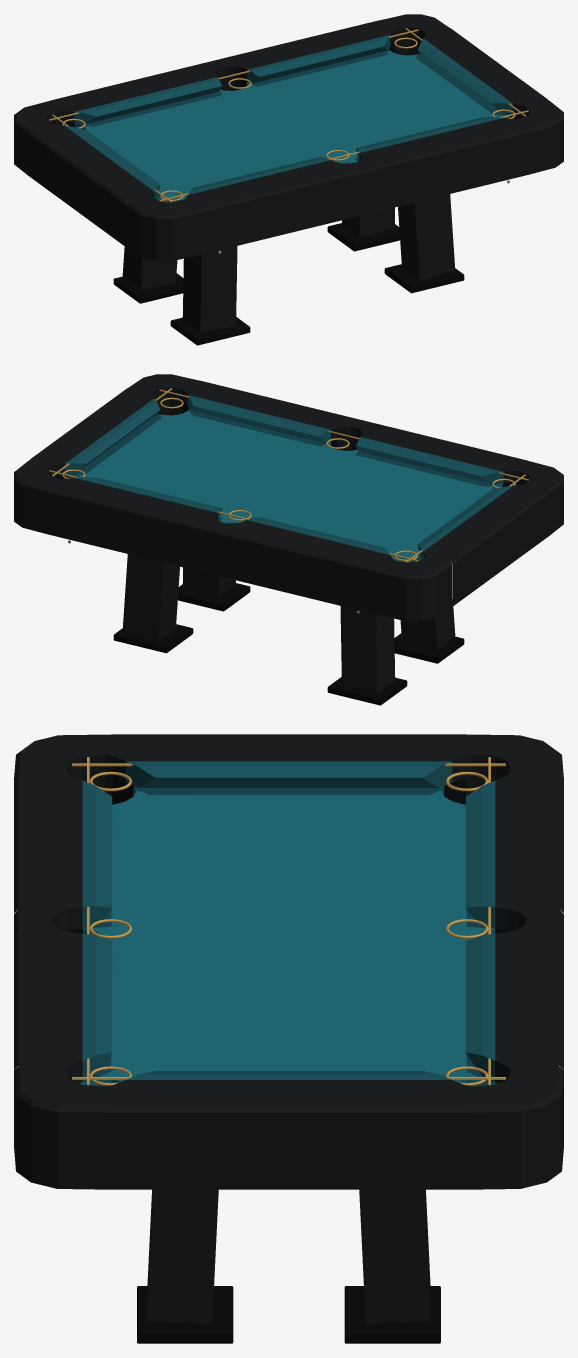
The model's file is table-eightball-5-chinese-ebony.glb.
3 renders of one model, top to bottom at view 1: azimuth 30°, elevation 25°; view 2: azimuth 150°, elevation 25°; view 3: azimuth 270°, elevation 25°, orthographic. The views are drawn at different scales.
Visible parts, largest first — view 1: table-eightball-5-chinese-ebony, break-builder-table-support, chinese-steel-cushion-details; view 2: table-eightball-5-chinese-ebony, break-builder-table-support, chinese-steel-cushion-details; view 3: table-eightball-5-chinese-ebony, break-builder-table-support, chinese-steel-cushion-details.
Part boxes in pixels (box(x1,y1,x2,y2)): table-eightball-5-chinese-ebony: box(14, 14, 563, 261); break-builder-table-support: box(113, 194, 464, 345); chinese-steel-cushion-details: box(49, 28, 528, 202); table-eightball-5-chinese-ebony: box(14, 374, 563, 621); break-builder-table-support: box(113, 554, 464, 705); chinese-steel-cushion-details: box(49, 388, 528, 562); table-eightball-5-chinese-ebony: box(14, 734, 563, 1189); break-builder-table-support: box(137, 1189, 440, 1343); chinese-steel-cushion-details: box(72, 757, 505, 1085).
Size of the model in its own units: 1.64 by 0.6219 by 1.01.
32 materials, 1 textured.
